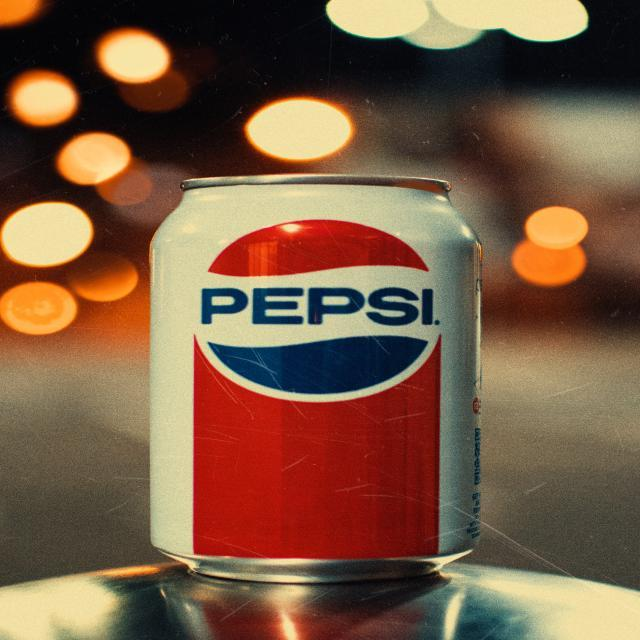can: (127, 139, 524, 604)
